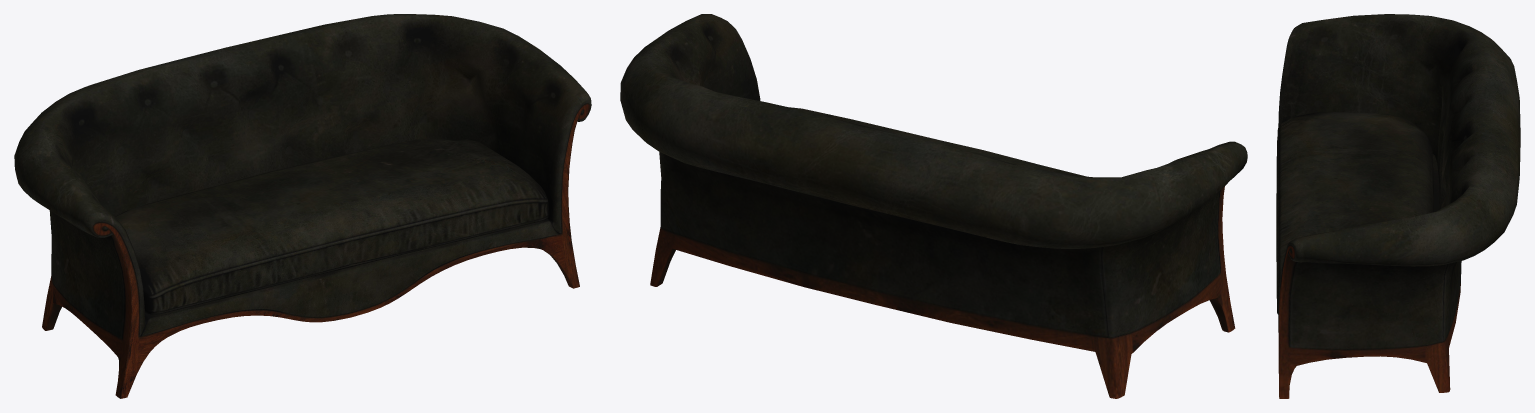
The model's file is Sofa01.glb.
The picture shows the model from 3 angles, left to right: view 1: azimuth 30°, elevation 25°; view 2: azimuth 150°, elevation 25°; view 3: azimuth 270°, elevation 25°; orthographic projection. The views are drawn at different scales.
Parts seen in each view (by area): view 1: base, seat; view 2: base, seat; view 3: base, seat.
Part boxes in pixels (bbox=[...]): base: bbox=[14, 14, 591, 398]; seat: bbox=[115, 139, 549, 314]; base: bbox=[620, 14, 1247, 398]; seat: bbox=[789, 107, 1086, 176]; base: bbox=[1278, 14, 1520, 398]; seat: bbox=[1276, 112, 1433, 314].
Bounding box in the file's own units: 1.81 × 0.7095 × 0.8178.
Materials: 1 (1 with a texture image).
